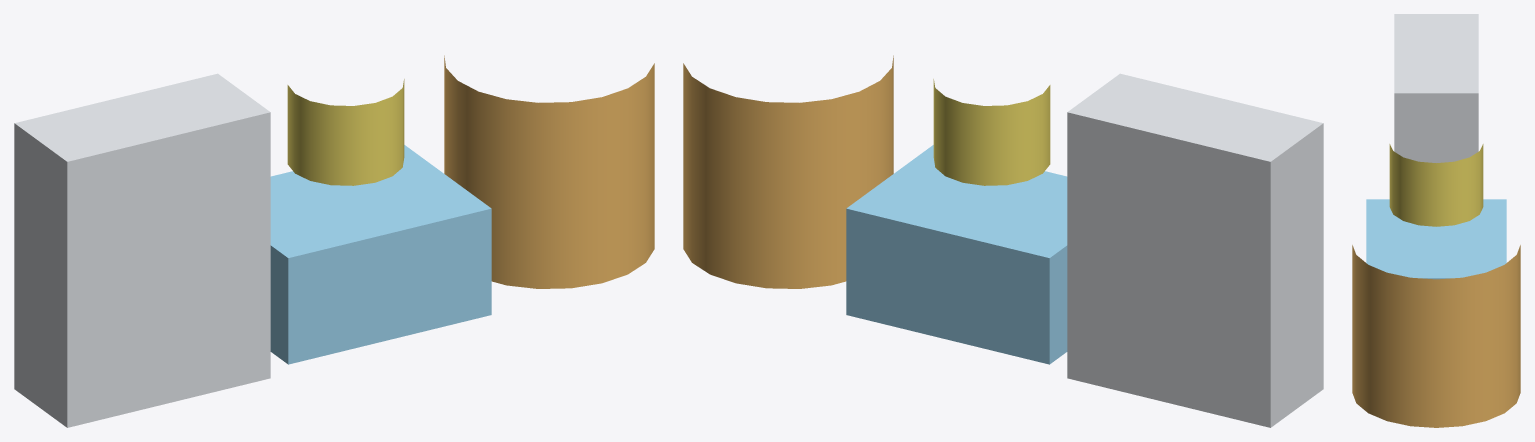
Rendered from rc_lc_crystal_oscillators.glb.
3 renders of one model, left to right at view 1: azimuth 30°, elevation 25°; view 2: azimuth 150°, elevation 25°; view 3: azimuth 270°, elevation 25°, orthographic. The views are drawn at different scales.
Parts seen in each view (by area): view 1: HermeticQuartzCrystalHC49, WienBridgeLeadLagNetwork, HartleyTappedInductorTank, FeedbackGainTrimmerPot; view 2: HermeticQuartzCrystalHC49, WienBridgeLeadLagNetwork, HartleyTappedInductorTank, FeedbackGainTrimmerPot; view 3: HartleyTappedInductorTank, HermeticQuartzCrystalHC49, WienBridgeLeadLagNetwork, FeedbackGainTrimmerPot.
Part boxes in pixels (bbox=[...]): HermeticQuartzCrystalHC49: bbox=[14, 73, 270, 427]; WienBridgeLeadLagNetwork: bbox=[270, 145, 491, 364]; HartleyTappedInductorTank: bbox=[444, 55, 654, 288]; FeedbackGainTrimmerPot: bbox=[287, 79, 404, 185]; HermeticQuartzCrystalHC49: bbox=[1067, 73, 1323, 427]; WienBridgeLeadLagNetwork: bbox=[846, 145, 1067, 364]; HartleyTappedInductorTank: bbox=[683, 55, 893, 288]; FeedbackGainTrimmerPot: bbox=[933, 79, 1050, 185]; HartleyTappedInductorTank: bbox=[1352, 245, 1520, 427]; HermeticQuartzCrystalHC49: bbox=[1394, 14, 1478, 162]; WienBridgeLeadLagNetwork: bbox=[1366, 199, 1506, 279]; FeedbackGainTrimmerPot: bbox=[1389, 144, 1483, 226].
Bounding box in the file's own units: 1.18 × 0.5 × 0.36.
